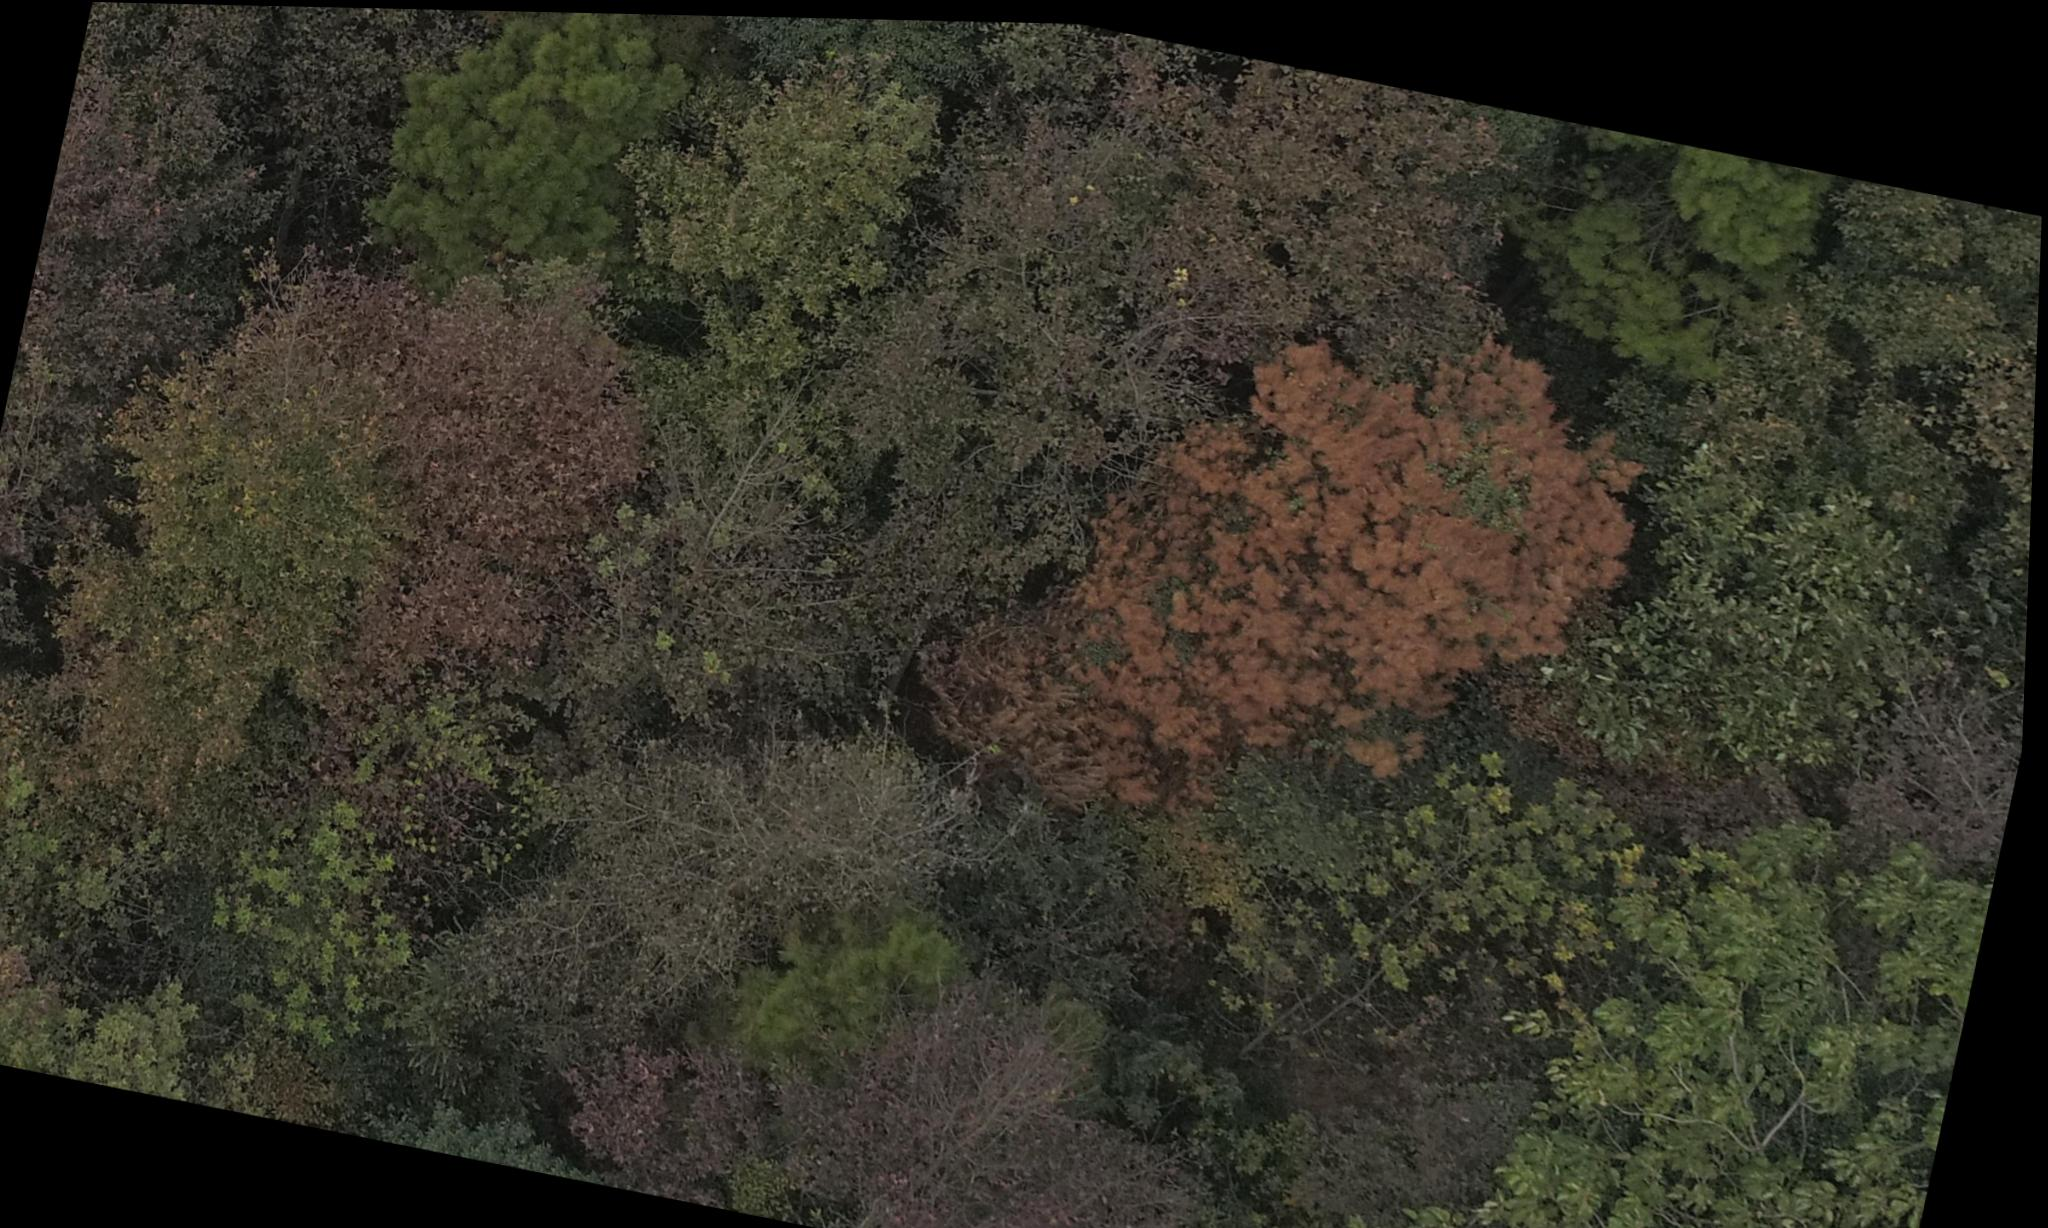heavy: (936, 256, 1678, 902)
